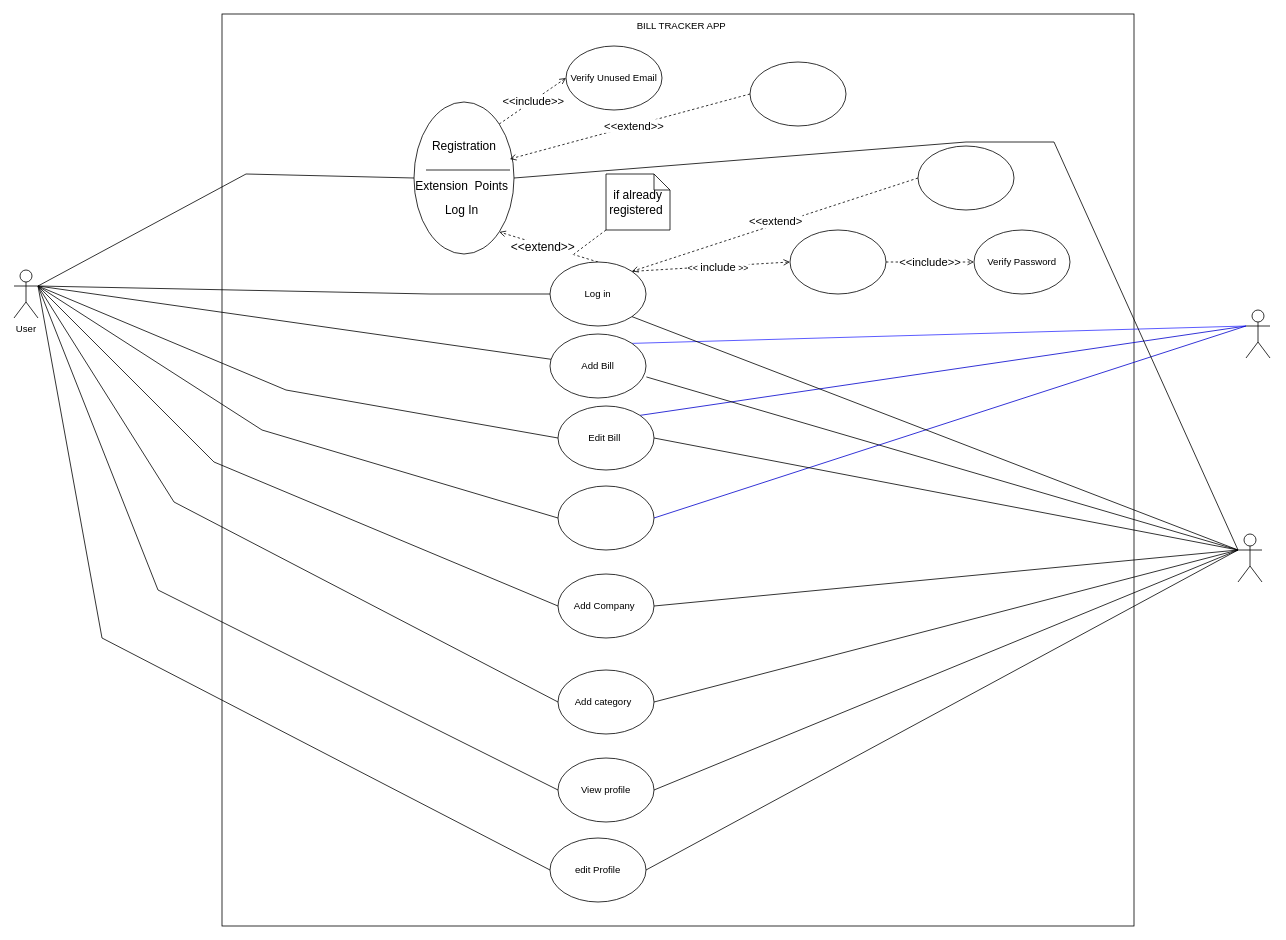
The diagram is 1286 pixels wide and 940 high, and some of its shapes have lost their labels. The centre of each missing label's shape, as x and y in pixels:
Check Bills: [605,517]
Check Email registration: [837,261]
Data Base: [1249,557]
Display Login Error: [965,177]
Display Registration Error: [797,93]
Server: [1257,333]
